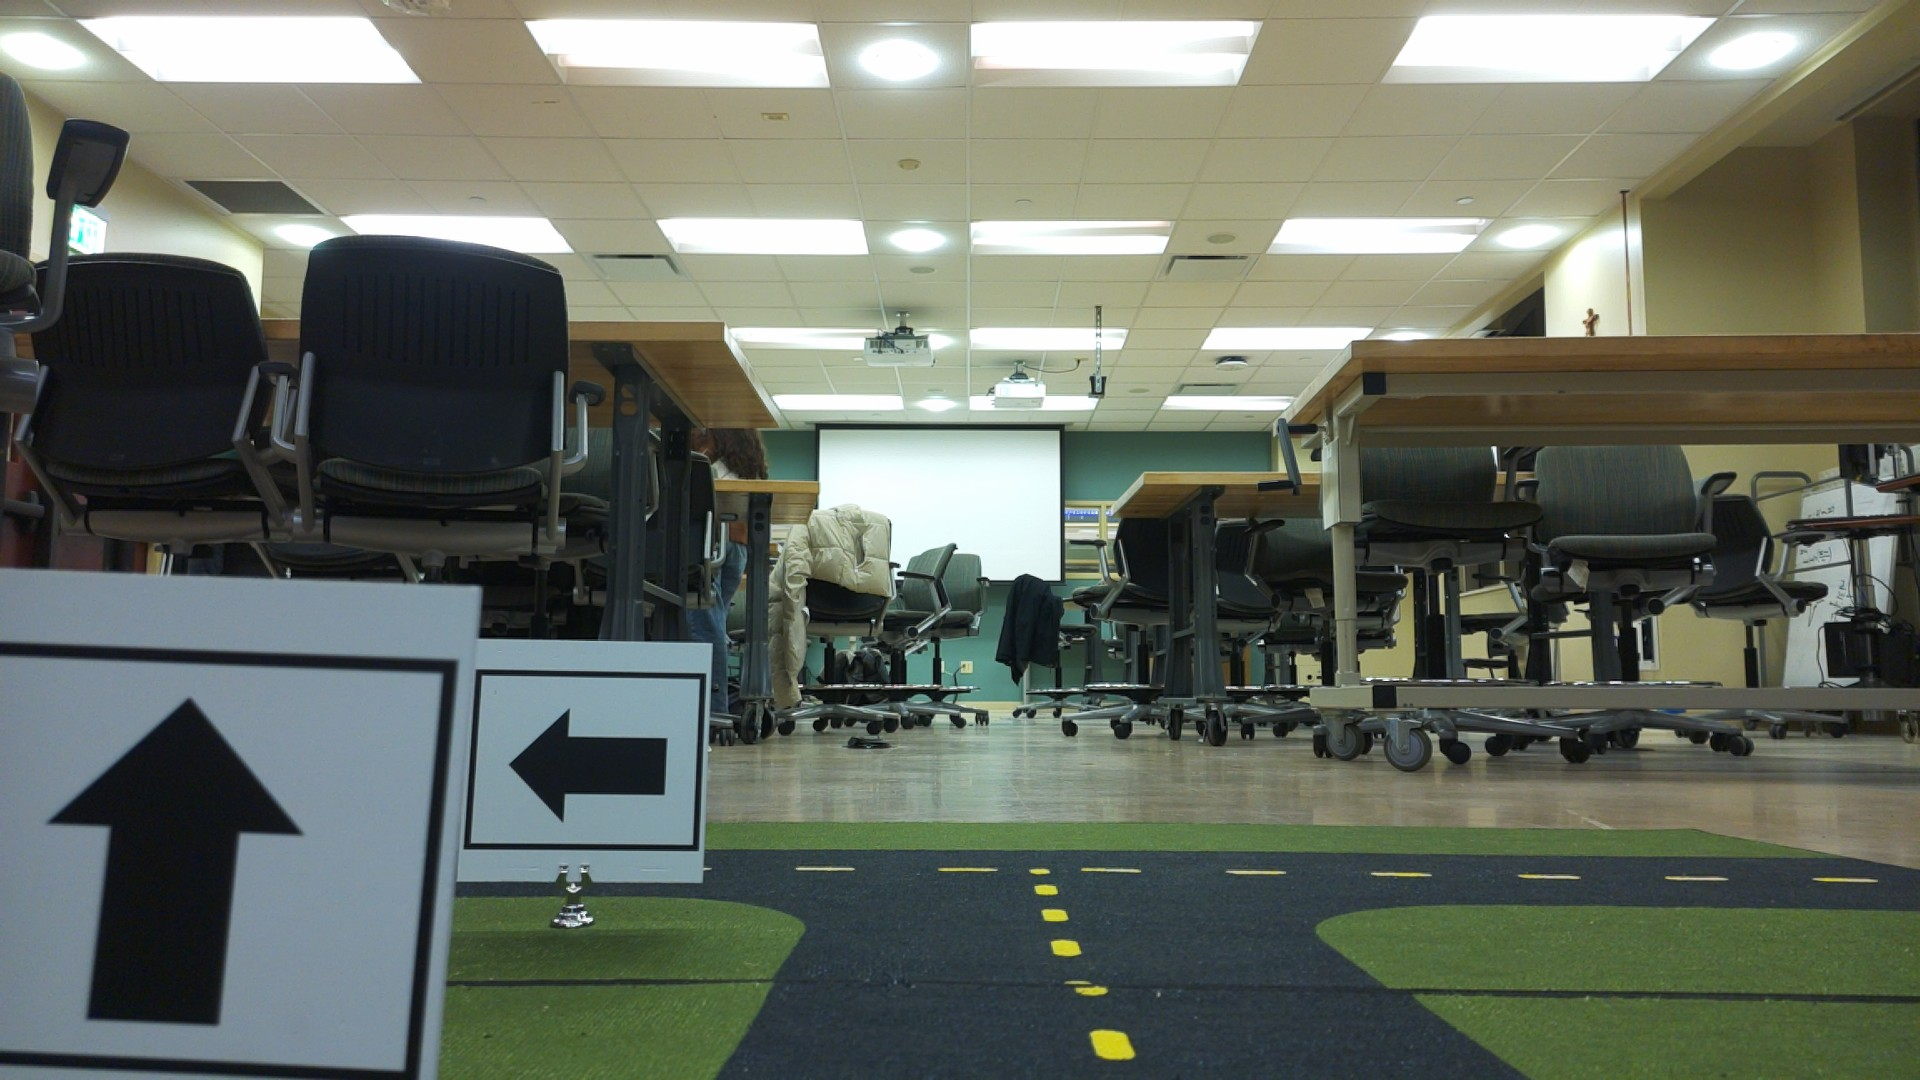gostraight: (3, 584, 444, 1080)
turnleft: (475, 649, 703, 887)
